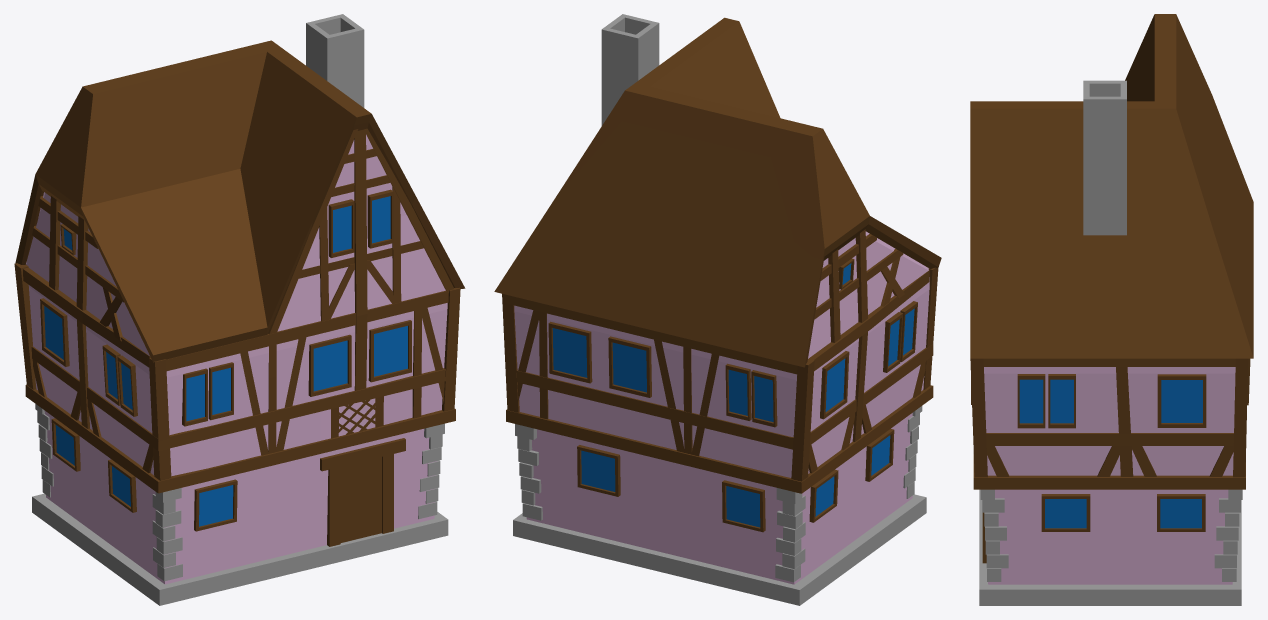
The model's file is maison.gltf.
3 renders of one model, left to right at view 1: azimuth 30°, elevation 25°; view 2: azimuth 150°, elevation 25°; view 3: azimuth 270°, elevation 25°, orthographic. The views are drawn at different scales.
Parts seen in each view (by area): view 1: base_Cube.009; view 2: base_Cube.009; view 3: base_Cube.009.
Part boxes in pixels (x1,y1,x2,y2): base_Cube.009: (14, 14, 465, 605); base_Cube.009: (494, 14, 941, 605); base_Cube.009: (970, 14, 1253, 605).
Bounding box in the file's own units: 0.1635 × 0.2369 × 0.1242.
1 material, 1 textured.
